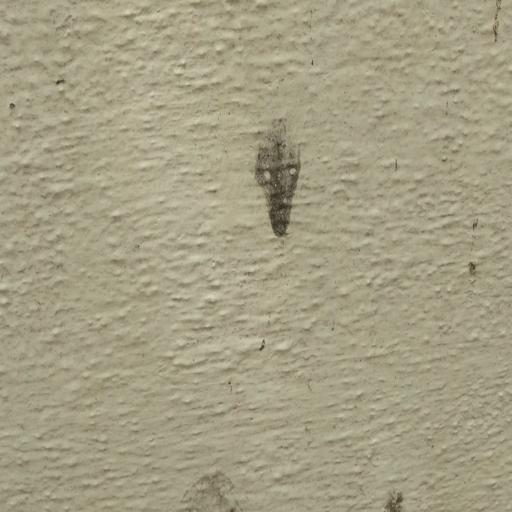stain: (213, 97, 336, 233), (174, 466, 270, 512), (450, 212, 496, 282), (373, 474, 439, 512), (471, 7, 512, 51)
